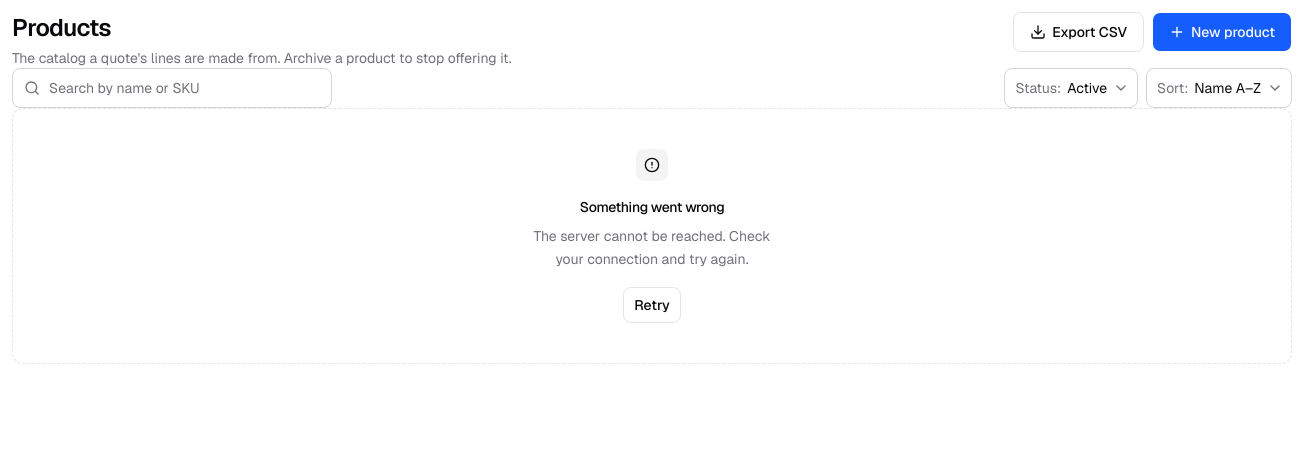
Test case: ProductsPage › shows the load error with Retry
Expected: the message shows "The server cannot be reached.", [534, 227, 770, 268]
What coordinates should you click on to do the following:
click the button "Retry"
I would click on:
 (652, 304)
Its box is [623, 286, 681, 322].
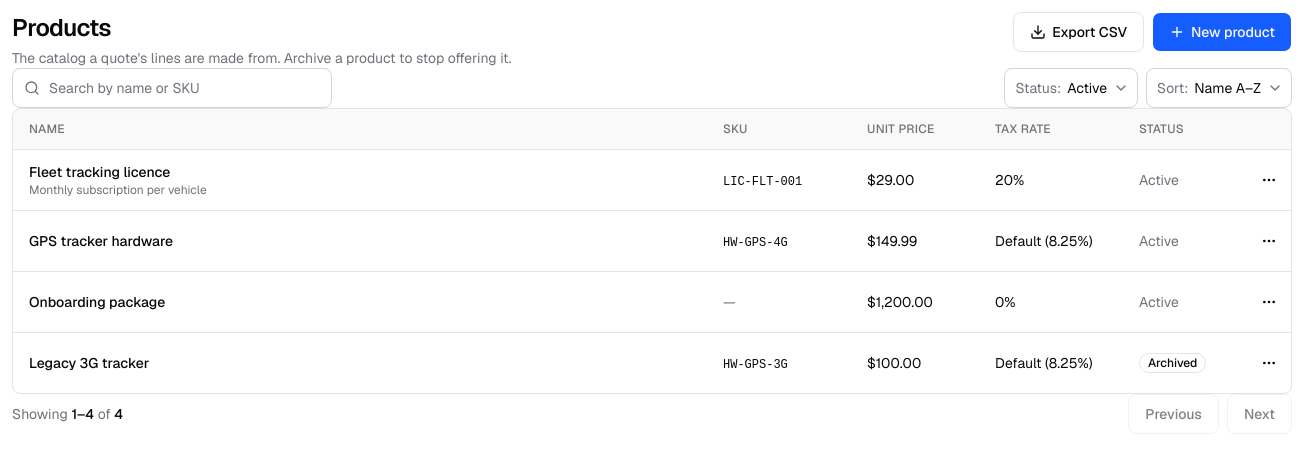
Now the table named "Products" is shown
